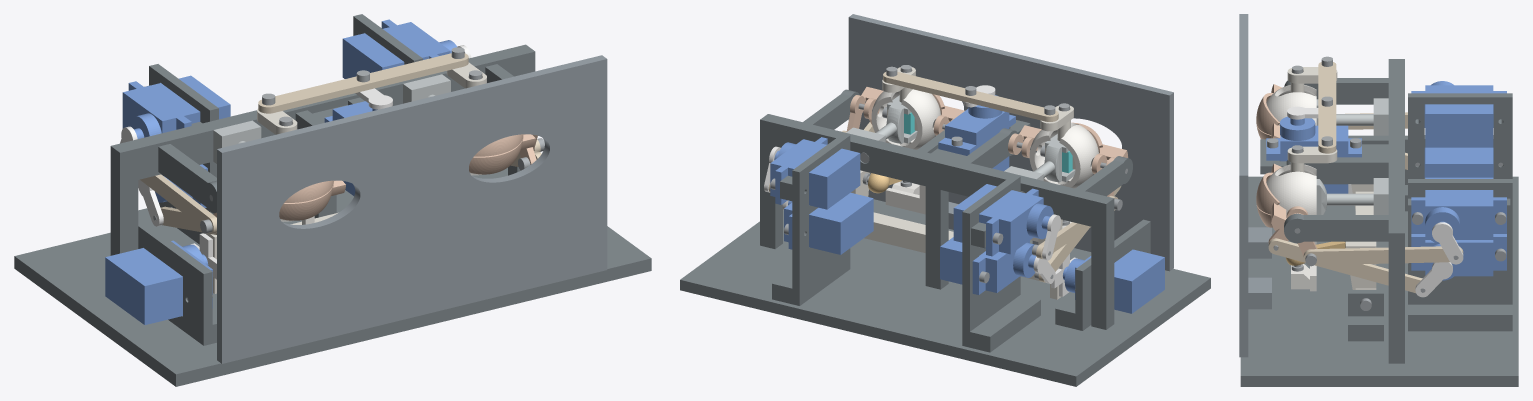
File: assembly.glb
3 views of the same model, side by side, from view 1: azimuth 30°, elevation 25°; view 2: azimuth 150°, elevation 25°; view 3: azimuth 270°, elevation 25° (orthographic). The views are drawn at different scales.
Visible parts, largest first — view 1: mask, base, back_frame, servo_pitch, mount_pitch_servo, servo_lid_UL, yaw_coupler, servo_lid_UR, mount_lid_servos_L, link_UL, lid_LR, mount_lid_servos_R (+10 smaller); view 2: base, mask, back_frame, mount_lid_servos_L, mount_lid_servos_R, servo_lid_UL, servo_lid_UR, servo_lid_LR, servo_pitch, eye_shell_R, servo_lid_LL, mount_pitch_servo (+12 smaller); view 3: base, back_frame, mount_lid_servos_R, mask, servo_lid_UR, mount_lid_servos_L, servo_lid_UL, eye_shell_R, servo_yaw, servo_lid_LR, servo_lid_LL, link_UR (+16 smaller).
Boxes of the visible parts, x1=… form: mask: x1=217, y1=55, x2=607, y2=363; base: x1=14, y1=167, x2=651, y2=386; back_frame: x1=110, y1=44, x2=535, y2=255; servo_pitch: x1=105, y1=240, x2=212, y2=324; mount_pitch_servo: x1=138, y1=217, x2=216, y2=345; servo_lid_UL: x1=122, y1=75, x2=230, y2=138; yaw_coupler: x1=258, y1=53, x2=468, y2=113; servo_lid_UR: x1=342, y1=19, x2=456, y2=78; mount_lid_servos_L: x1=138, y1=64, x2=218, y2=246; link_UL: x1=140, y1=174, x2=216, y2=234; lid_LR: x1=469, y1=134, x2=536, y2=174; mount_lid_servos_R: x1=353, y1=14, x2=422, y2=64; base: x1=680, y1=199, x2=1210, y2=386; mask: x1=848, y1=14, x2=1173, y2=271; back_frame: x1=760, y1=89, x2=1132, y2=329; mount_lid_servos_L: x1=962, y1=175, x2=1040, y2=352; mount_lid_servos_R: x1=772, y1=133, x2=850, y2=305; servo_lid_UL: x1=953, y1=184, x2=1053, y2=256; servo_lid_UR: x1=770, y1=137, x2=860, y2=209; servo_lid_LR: x1=784, y1=192, x2=873, y2=254; servo_pitch: x1=1063, y1=249, x2=1164, y2=313; eye_shell_R: x1=871, y1=89, x2=940, y2=214; servo_lid_LL: x1=940, y1=237, x2=1036, y2=294; mount_pitch_servo: x1=1055, y1=219, x2=1150, y2=330; base: x1=1240, y1=176, x2=1518, y2=386; back_frame: x1=1260, y1=59, x2=1404, y2=363; mount_lid_servos_R: x1=1408, y1=179, x2=1512, y2=331; mask: x1=1239, y1=14, x2=1271, y2=357; servo_lid_UR: x1=1411, y1=177, x2=1506, y2=243; mount_lid_servos_L: x1=1408, y1=93, x2=1512, y2=196; servo_lid_UL: x1=1411, y1=81, x2=1506, y2=147; eye_shell_R: x1=1266, y1=164, x2=1316, y2=291; servo_yaw: x1=1266, y1=116, x2=1361, y2=193; servo_lid_LR: x1=1411, y1=234, x2=1506, y2=280; servo_lid_LL: x1=1424, y1=147, x2=1493, y2=177; link_UR: x1=1303, y1=246, x2=1463, y2=265.
Bounding box in the file's own units: 158 × 71 × 93.5.
